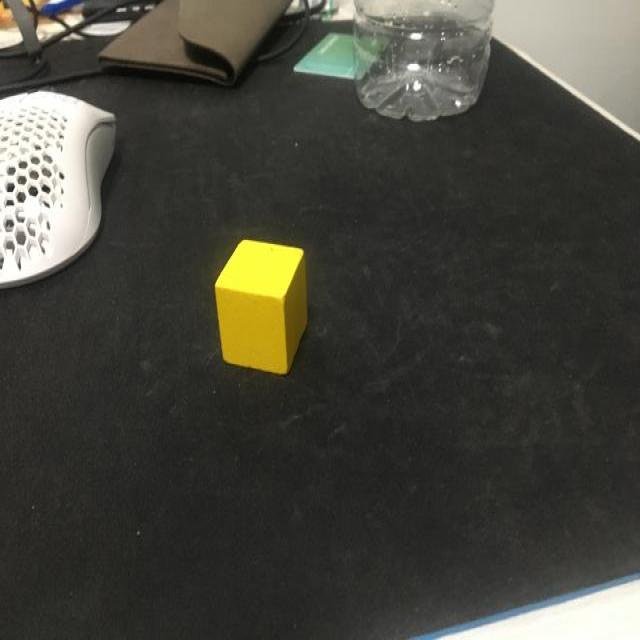yellow: (216, 238, 310, 374)
